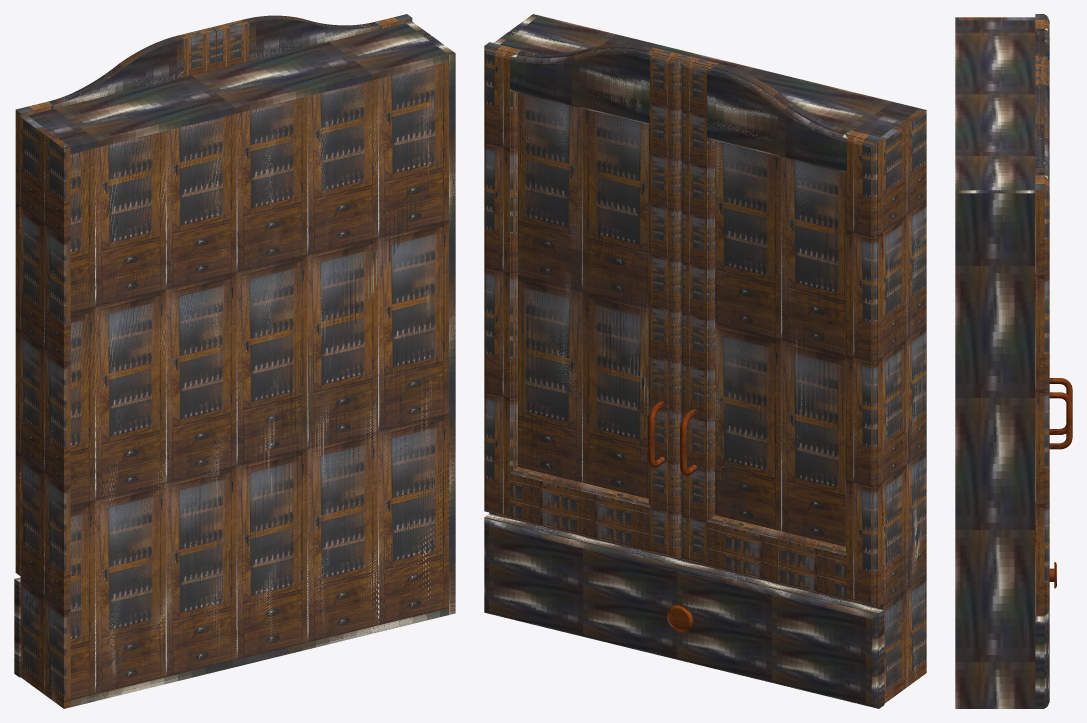
3 views of the same model, side by side, from view 1: azimuth 30°, elevation 25°; view 2: azimuth 150°, elevation 25°; view 3: azimuth 270°, elevation 25° (orthographic). The views are drawn at different scales.
Visible parts, largest first — view 1: mesh13_mesh13-geometry, mesh6_mesh6-geometry, mesh4_mesh4-geometry, mesh7_mesh7-geometry, mesh39_mesh39-geometry, mesh41_mesh41-geometry, mesh31_mesh31-geometry, mesh5_mesh5-geometry, mesh33_mesh33-geometry, mesh27_mesh27-geometry, mesh10_mesh10-geometry; view 2: mesh30_mesh30-geometry, mesh36_mesh36-geometry, mesh10_mesh10-geometry, mesh6_mesh6-geometry, mesh31_mesh31-geometry, mesh33_mesh33-geometry, mesh27_mesh27-geometry, mesh37_mesh37-geometry, mesh39_mesh39-geometry, mesh41_mesh41-geometry, mesh4_mesh4-geometry, mesh35_mesh35-geometry (+1 smaller); view 3: mesh7_mesh7-geometry, mesh4_mesh4-geometry, mesh37_mesh37-geometry, mesh41_mesh41-geometry, mesh10_mesh10-geometry, mesh44_mesh44-geometry, mesh39_mesh39-geometry, mesh43_mesh43-geometry, mesh6_mesh6-geometry, mesh27_mesh27-geometry.
Part boxes in pixels (x1,y1,x2,y2): mesh13_mesh13-geometry: (70,62,448,700); mesh6_mesh6-geometry: (20,115,70,708); mesh4_mesh4-geometry: (27,23,448,153); mesh7_mesh7-geometry: (406,21,455,614); mesh39_mesh39-geometry: (45,35,185,108); mesh41_mesh41-geometry: (241,15,381,60); mesh31_mesh31-geometry: (15,101,53,575); mesh5_mesh5-geometry: (70,608,448,707); mesh33_mesh33-geometry: (211,19,249,69); mesh27_mesh27-geometry: (179,27,215,76); mesh10_mesh10-geometry: (14,577,20,677); mesh30_mesh30-geometry: (715,141,845,546); mesh36_mesh36-geometry: (518,93,648,498); mesh10_mesh10-geometry: (484,513,884,708); mesh6_mesh6-geometry: (876,108,926,703); mesh31_mesh31-geometry: (845,130,882,607); mesh33_mesh33-geometry: (648,47,685,559); mesh27_mesh27-geometry: (681,55,718,567); mesh37_mesh37-geometry: (484,42,521,518); mesh39_mesh39-geometry: (707,63,852,172); mesh41_mesh41-geometry: (510,43,655,124); mesh4_mesh4-geometry: (500,15,919,137); mesh35_mesh35-geometry: (510,467,650,551); mesh7_mesh7-geometry: (955,190,1035,708); mesh4_mesh4-geometry: (955,20,1035,190); mesh37_mesh37-geometry: (1035,175,1049,616); mesh41_mesh41-geometry: (1035,83,1049,181); mesh10_mesh10-geometry: (1035,610,1049,708); mesh44_mesh44-geometry: (1049,378,1072,421); mesh39_mesh39-geometry: (1035,26,1049,61); mesh43_mesh43-geometry: (1049,421,1072,449); mesh6_mesh6-geometry: (955,17,1035,20); mesh27_mesh27-geometry: (1035,55,1049,76).
Size of the model in its own units: 0.5595 by 0.8139 by 0.1564.
